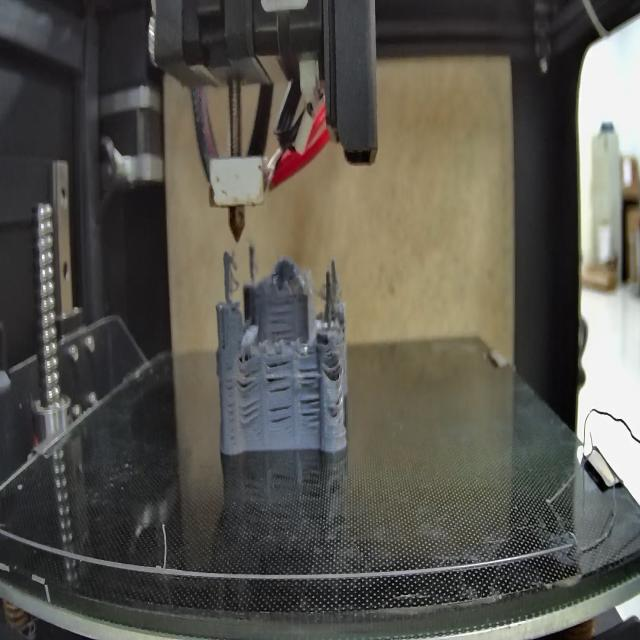cracks: (271, 300, 297, 341), (268, 358, 293, 393), (225, 366, 235, 445), (237, 366, 262, 392), (300, 396, 323, 424), (269, 400, 293, 426), (300, 361, 320, 388), (240, 402, 264, 423), (328, 392, 343, 420), (327, 354, 341, 380)
